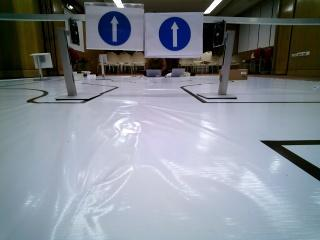straight: (85, 3, 141, 50), (145, 12, 201, 57)
